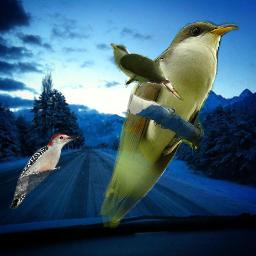Cuckoo: (98, 20, 240, 228), (108, 43, 184, 101)
Woodpecker: (10, 133, 80, 209)
